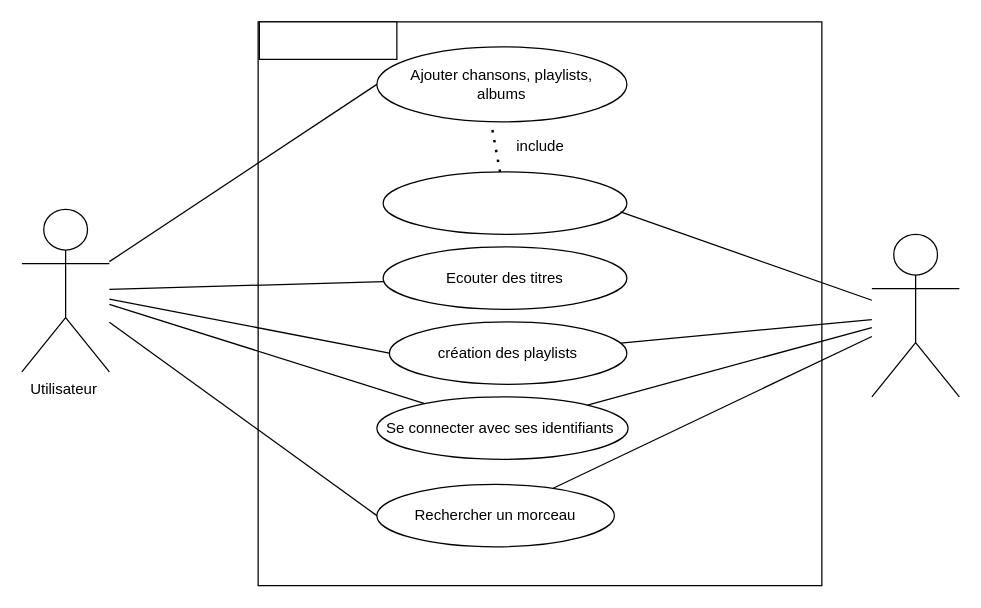
Some shapes in this 981 by 608 pixel diagram are drawn without their labels. Here are the shapes that lost their labels. From the top down, the centre of each, then its label:
pixel 327 40: JMusicHub
pixel 504 202: Stockage chansons, playlists, albums
pixel 915 315: Serveur
